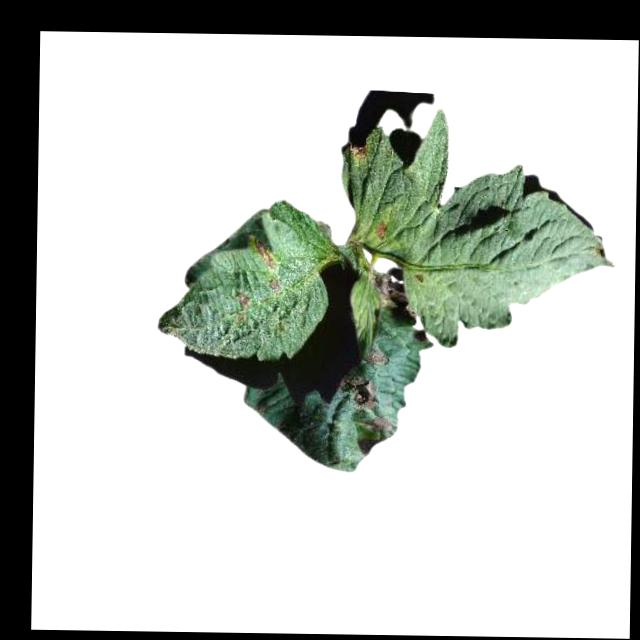Early_blight: (372, 270, 408, 315), (339, 376, 380, 410), (249, 239, 274, 270), (364, 348, 390, 371), (365, 414, 390, 436), (350, 142, 367, 161), (374, 223, 389, 242), (236, 294, 251, 311), (267, 277, 281, 293)
